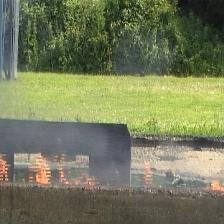fire: (32, 151, 50, 182), (206, 178, 224, 192), (1, 154, 10, 180)
